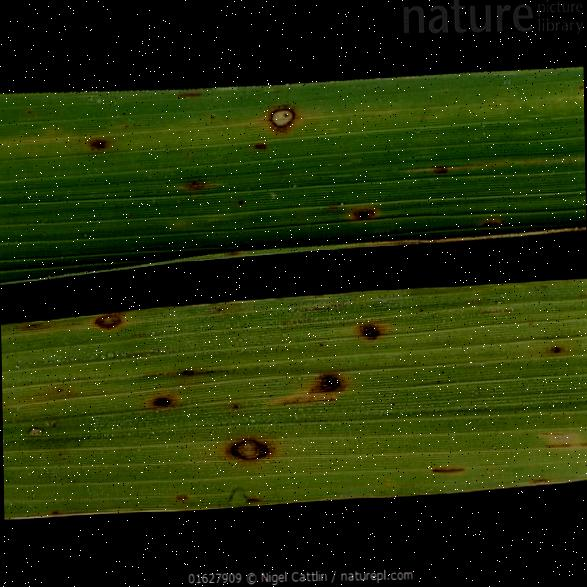Brown_Spot: (268, 354, 364, 412), (212, 428, 296, 472), (336, 183, 394, 228), (346, 315, 400, 359), (130, 380, 188, 418), (79, 300, 135, 333), (534, 329, 572, 374), (263, 93, 307, 131), (78, 120, 115, 162), (172, 172, 232, 197), (426, 460, 476, 484), (10, 418, 52, 438), (163, 488, 206, 505), (424, 158, 451, 182), (169, 87, 210, 101), (472, 214, 512, 228), (248, 134, 274, 150)
